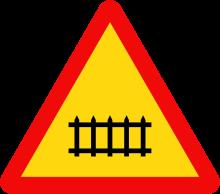Barrier Ahead: (12, 8, 214, 189)
